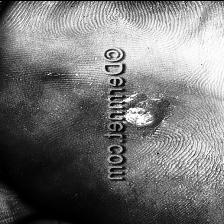Toxin: (122, 92, 168, 130)
